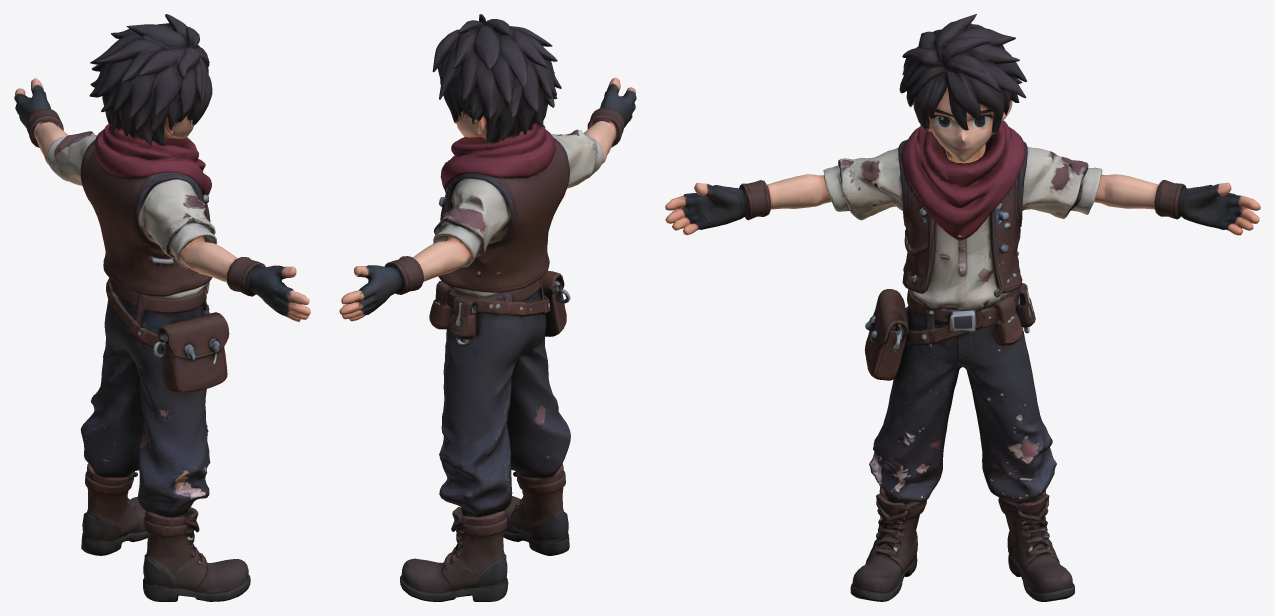
File: noen_rank_f_v2_model.glb
The picture shows the model from 3 angles, left to right: view 1: azimuth 30°, elevation 25°; view 2: azimuth 150°, elevation 25°; view 3: azimuth 270°, elevation 25°; orthographic projection. The views are drawn at different scales.
Parts seen in each view (by area): view 1: tripo_node_19445570-6bec-4044-9174-2f7b997ea6c5; view 2: tripo_node_19445570-6bec-4044-9174-2f7b997ea6c5; view 3: tripo_node_19445570-6bec-4044-9174-2f7b997ea6c5.
Part boxes in pixels (x1=…): tripo_node_19445570-6bec-4044-9174-2f7b997ea6c5: x1=14, y1=14, x2=310, y2=601; tripo_node_19445570-6bec-4044-9174-2f7b997ea6c5: x1=339, y1=14, x2=636, y2=601; tripo_node_19445570-6bec-4044-9174-2f7b997ea6c5: x1=665, y1=14, x2=1260, y2=601.
Bounding box in the file's own units: 0.2146 × 1 × 0.9625.
1 material, 1 textured.
